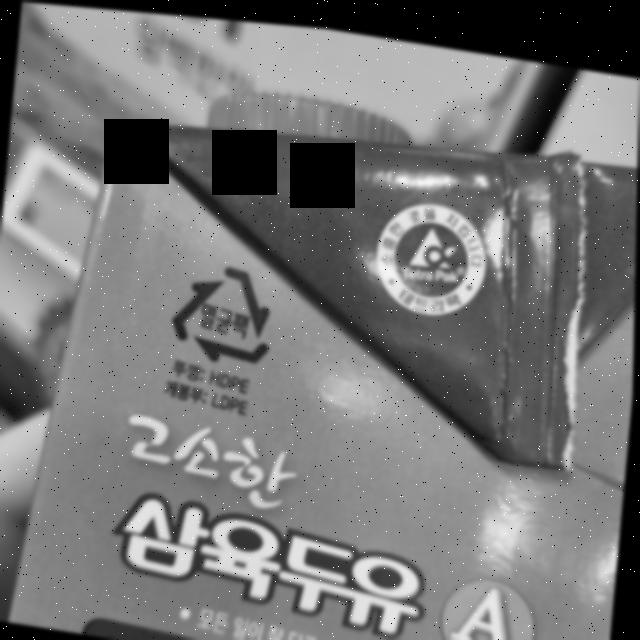SterilizedPack: (170, 251, 278, 367)
